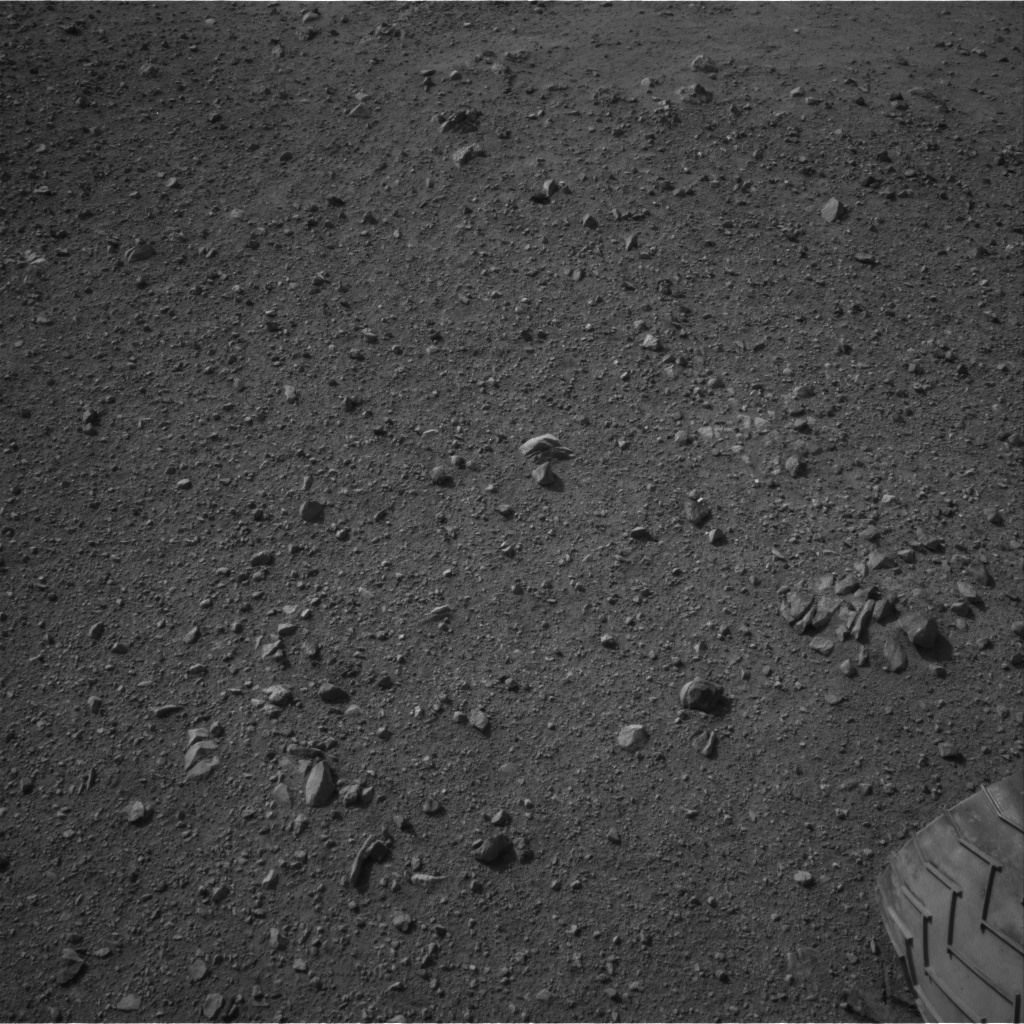soil: (3, 3, 1019, 1017)
